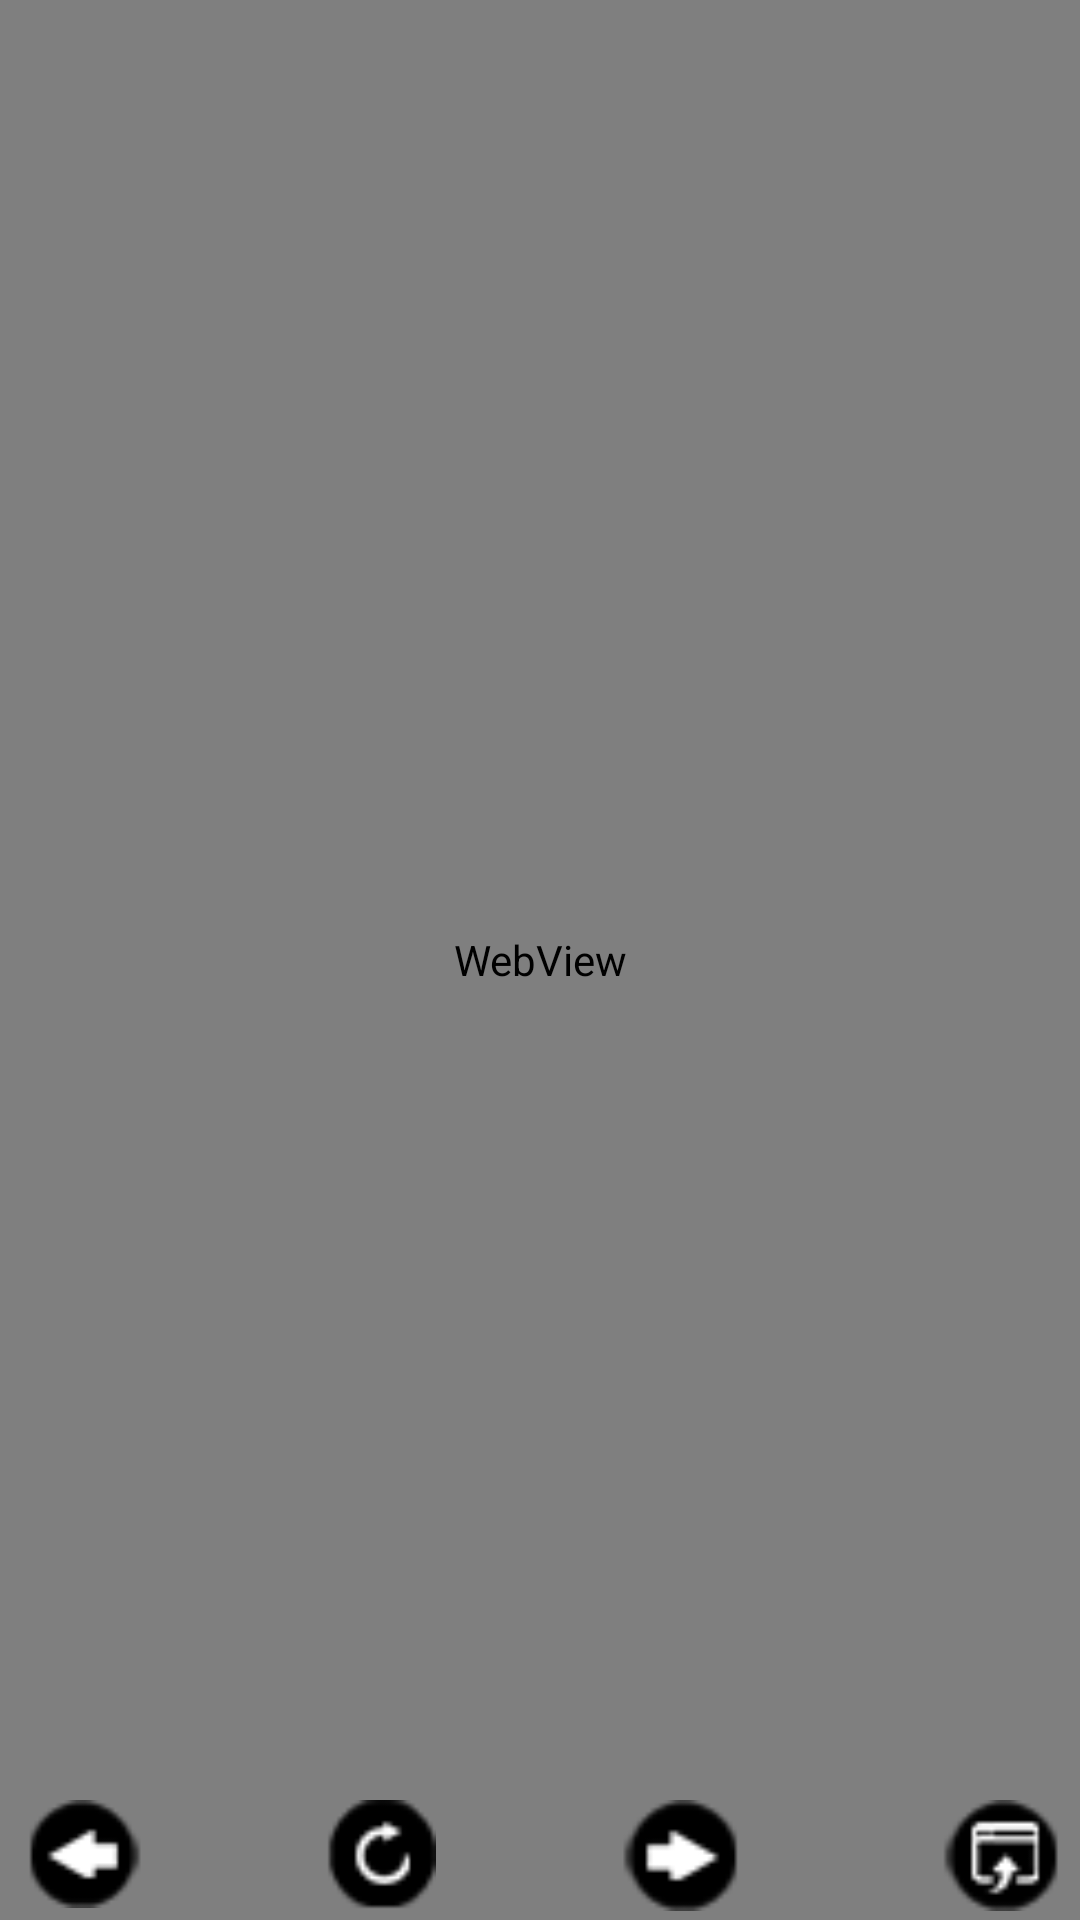

Named icons in this screenshot (1080px x 1920px) and their centers, [x,y]:
forward: [680,1855]
reload: [382,1854]
